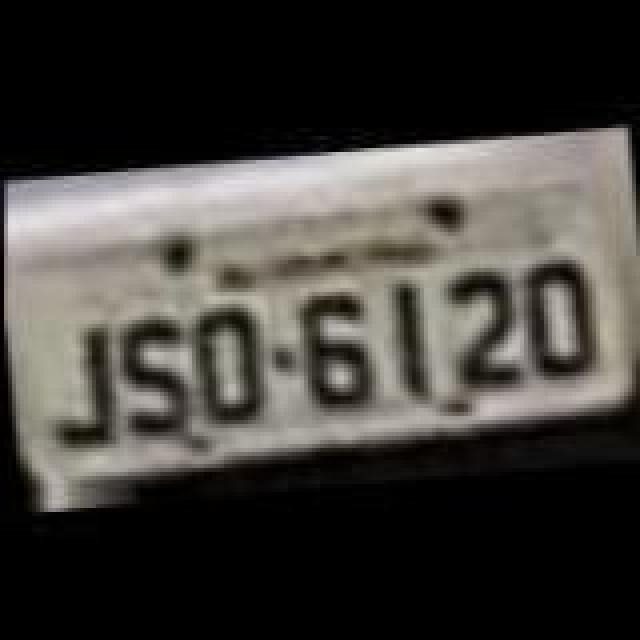1: (378, 280, 438, 404)
2: (442, 264, 526, 396)
6: (286, 286, 378, 418)
J: (40, 320, 116, 448)
O: (186, 302, 270, 430), (514, 254, 598, 378)
S: (106, 310, 190, 434)
